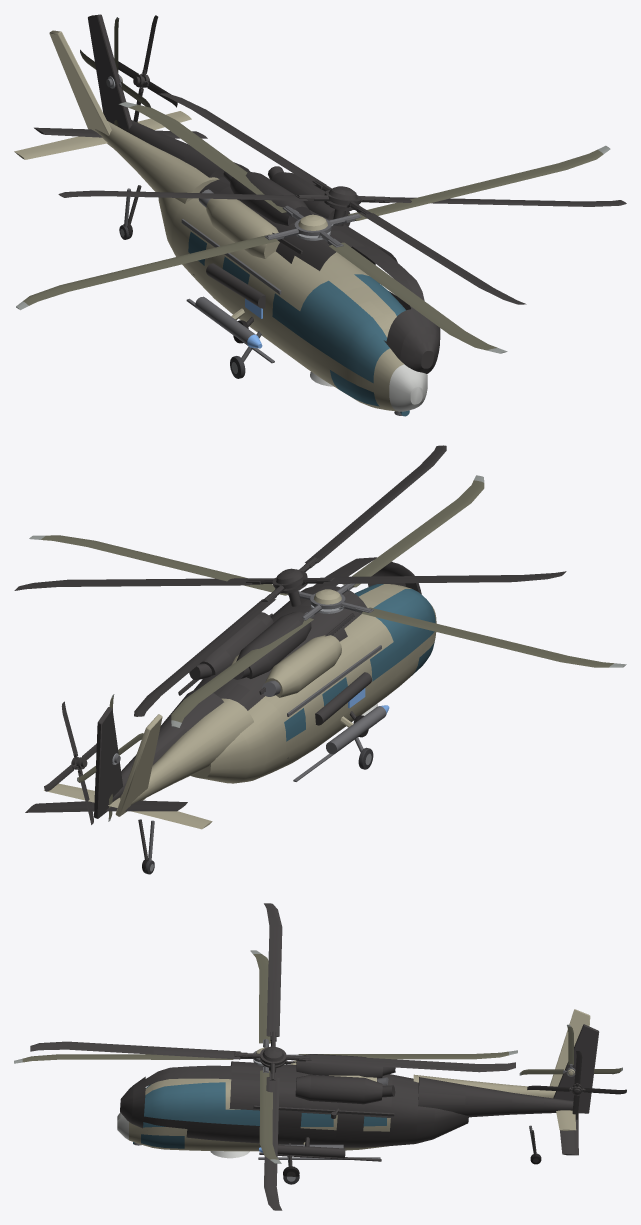
The model's file is navalHelicopter__s_70b_seahawk.glb.
The picture shows the model from 3 angles, top to bottom: view 1: azimuth 30°, elevation 25°; view 2: azimuth 150°, elevation 25°; view 3: azimuth 270°, elevation 25°; orthographic projection. The views are drawn at different scales.
Parts seen in each view (by area): view 1: Fuselage_Mesh, Wreck, Rotor_Main_Mesh, Engines_Mesh, Naval_Mission_Kit_Mesh, Rotor_Tail_Mesh, Landing_Gear_Mesh; view 2: Wreck, Fuselage_Mesh, Rotor_Main_Mesh, Engines_Mesh, Naval_Mission_Kit_Mesh, Landing_Gear_Mesh; view 3: Wreck, Fuselage_Mesh, Rotor_Main_Mesh, Rotor_Tail_Mesh.
Part boxes in pixels (box(x1,y1,x2,y2)): Fuselage_Mesh: box(14, 30, 427, 416); Wreck: box(34, 14, 626, 373); Rotor_Main_Mesh: box(16, 102, 610, 353); Engines_Mesh: box(198, 189, 279, 258); Naval_Mission_Kit_Mesh: box(195, 296, 262, 348); Rotor_Tail_Mesh: box(80, 17, 150, 126); Landing_Gear_Mesh: box(119, 188, 261, 378); Wreck: box(14, 445, 566, 872); Fuselage_Mesh: box(44, 584, 436, 829); Rotor_Main_Mesh: box(29, 475, 626, 727); Engines_Mesh: box(231, 635, 341, 697); Naval_Mission_Kit_Mesh: box(326, 705, 389, 754); Landing_Gear_Mesh: box(144, 721, 373, 874); Wreck: box(30, 903, 626, 1210); Fuselage_Mesh: box(117, 1009, 590, 1159); Rotor_Main_Mesh: box(14, 950, 517, 1163); Rotor_Tail_Mesh: box(519, 1024, 622, 1076).
Size of what is drawn, in the model's own units: 16.77 by 6.2 by 19.9.
